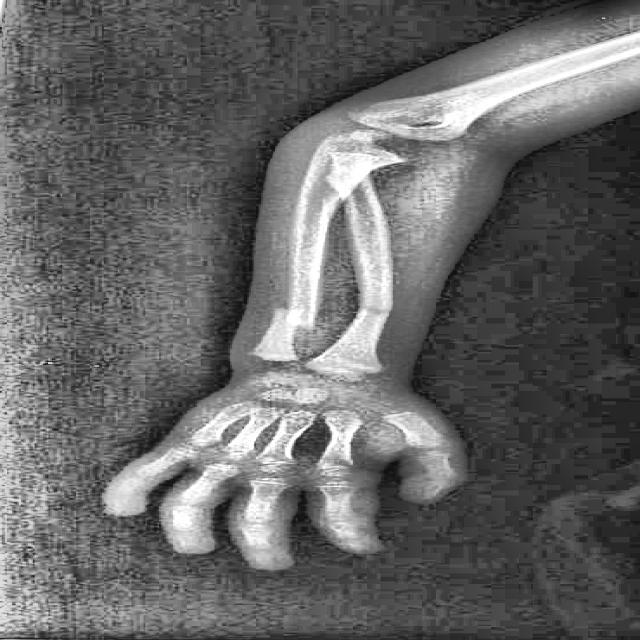fracture: (266, 304, 316, 332), (350, 306, 392, 316)
